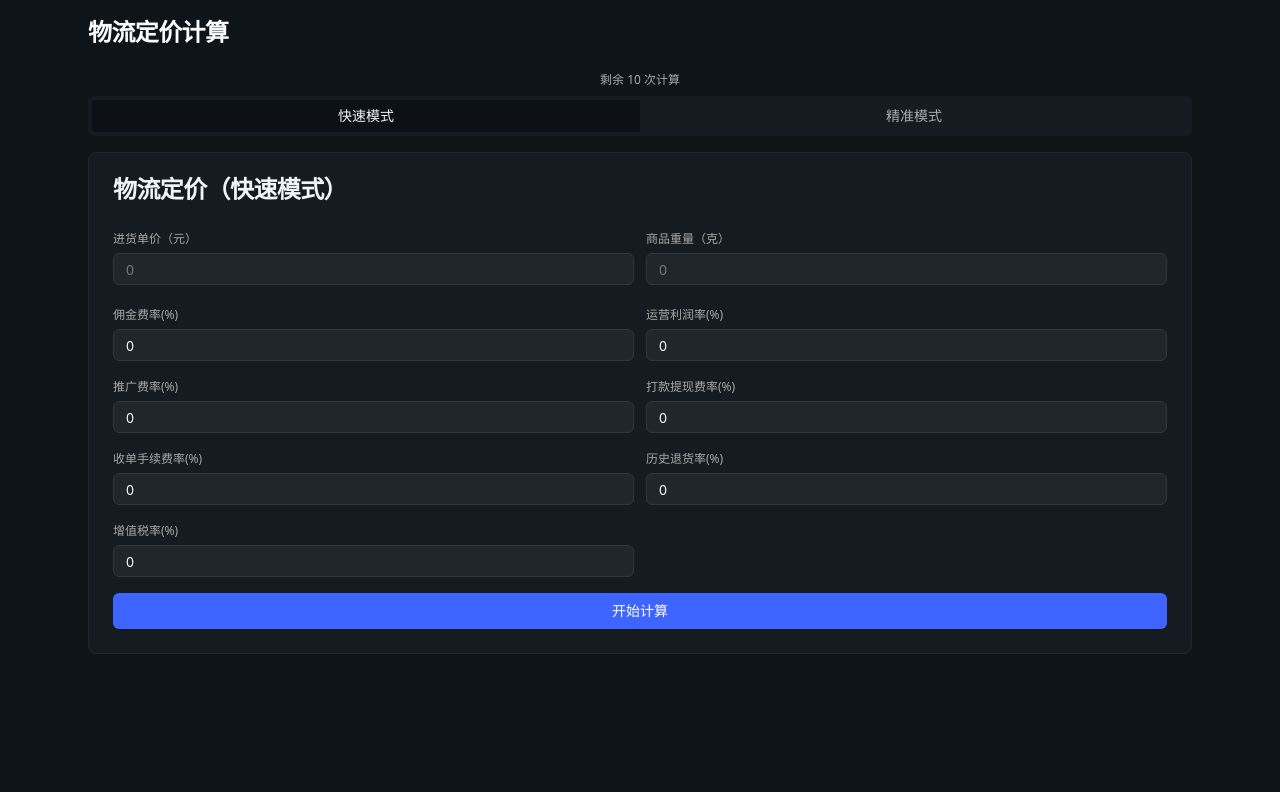
Test: PricingPage › renders pricing results after successful calculation
Type "50" into the number field with placeholder "0" below "进货单价（元）".
click(374, 269); type("50")  # box [113, 253, 634, 285]
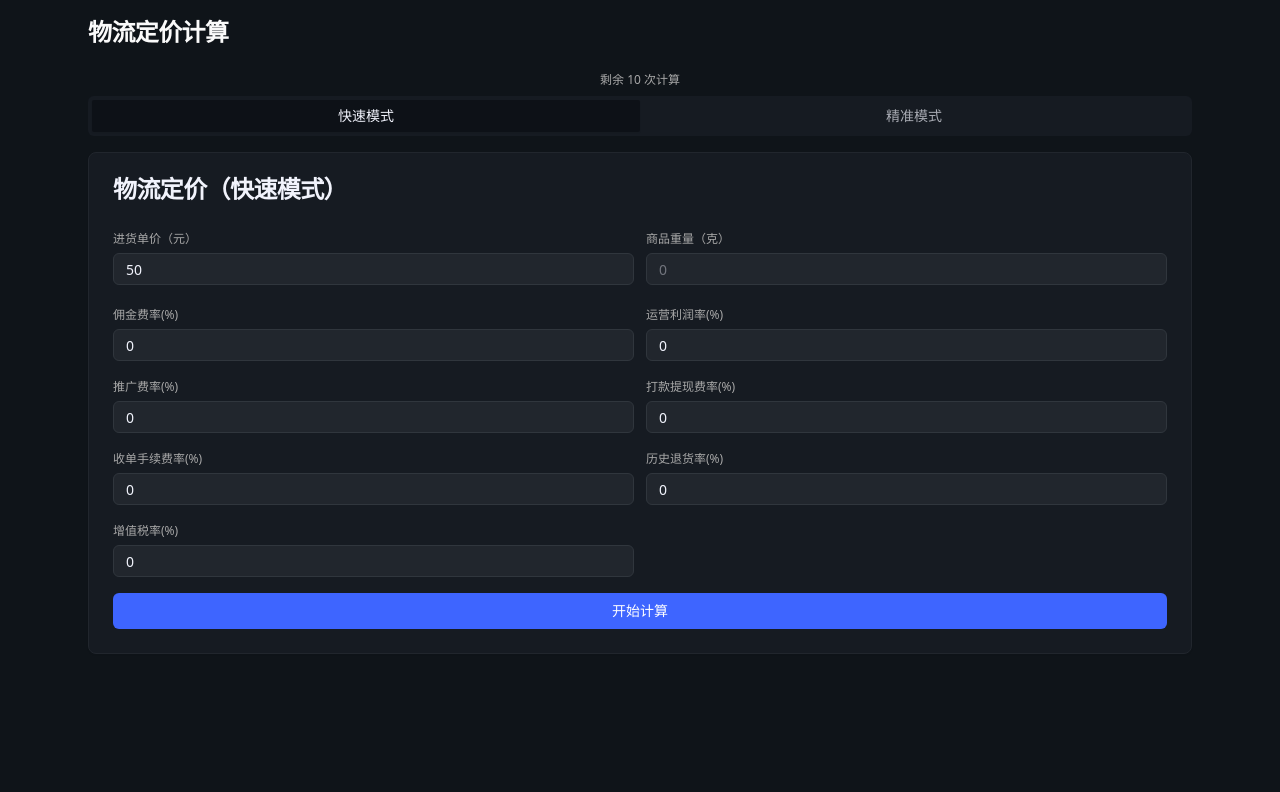
Type "500" into the number field with placeholder "0".
click(906, 269); type("500")  # box [646, 253, 1167, 285]
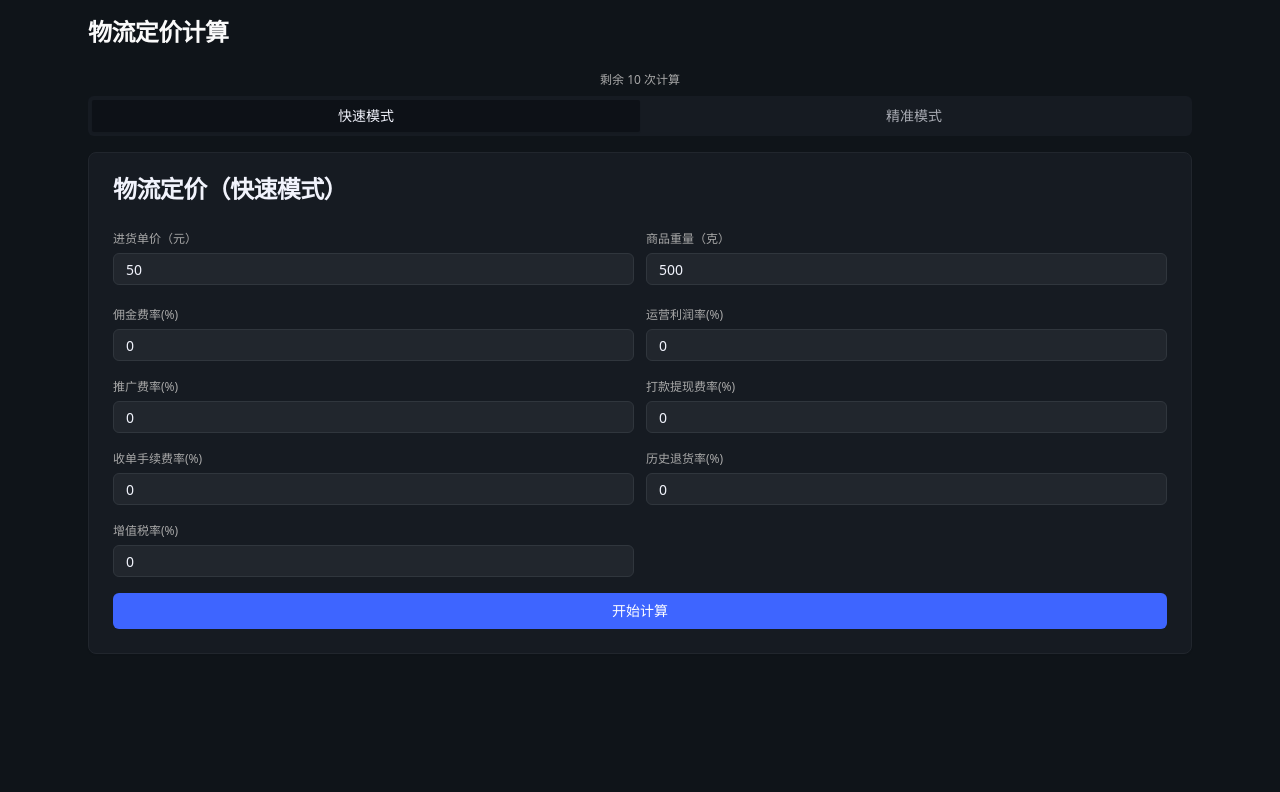
Click the button "开始计算".
click(640, 611)  # box [113, 593, 1167, 629]
(page scrolled)
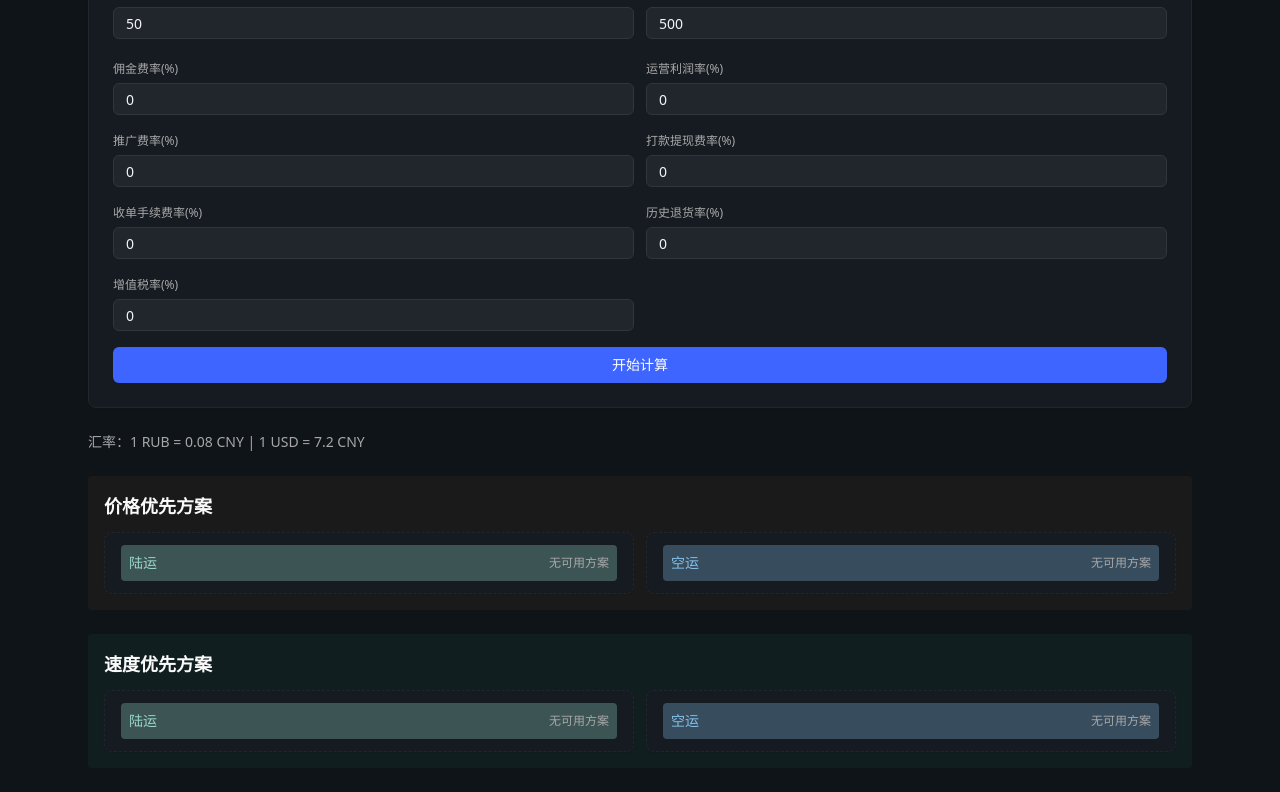
Expected: the heading "价格优先方案" is shown, [104, 494, 212, 518]
